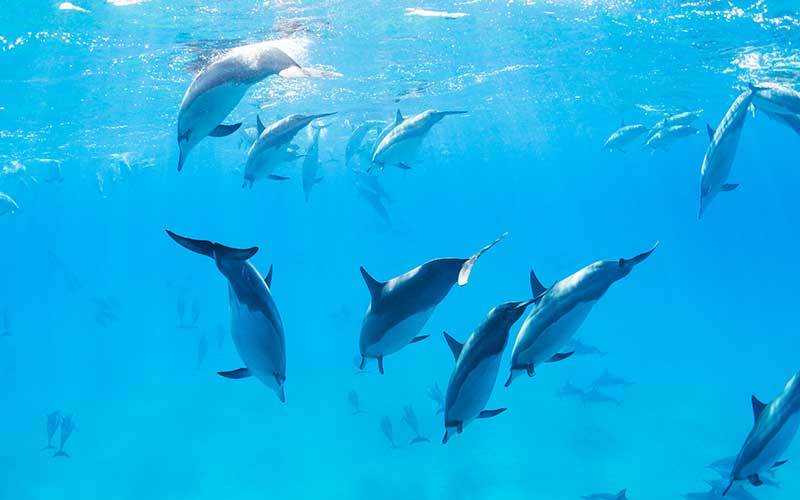dolphin: (157, 218, 308, 413), (342, 238, 512, 383), (516, 244, 663, 402), (150, 34, 295, 177), (447, 298, 528, 463), (694, 82, 757, 220)
